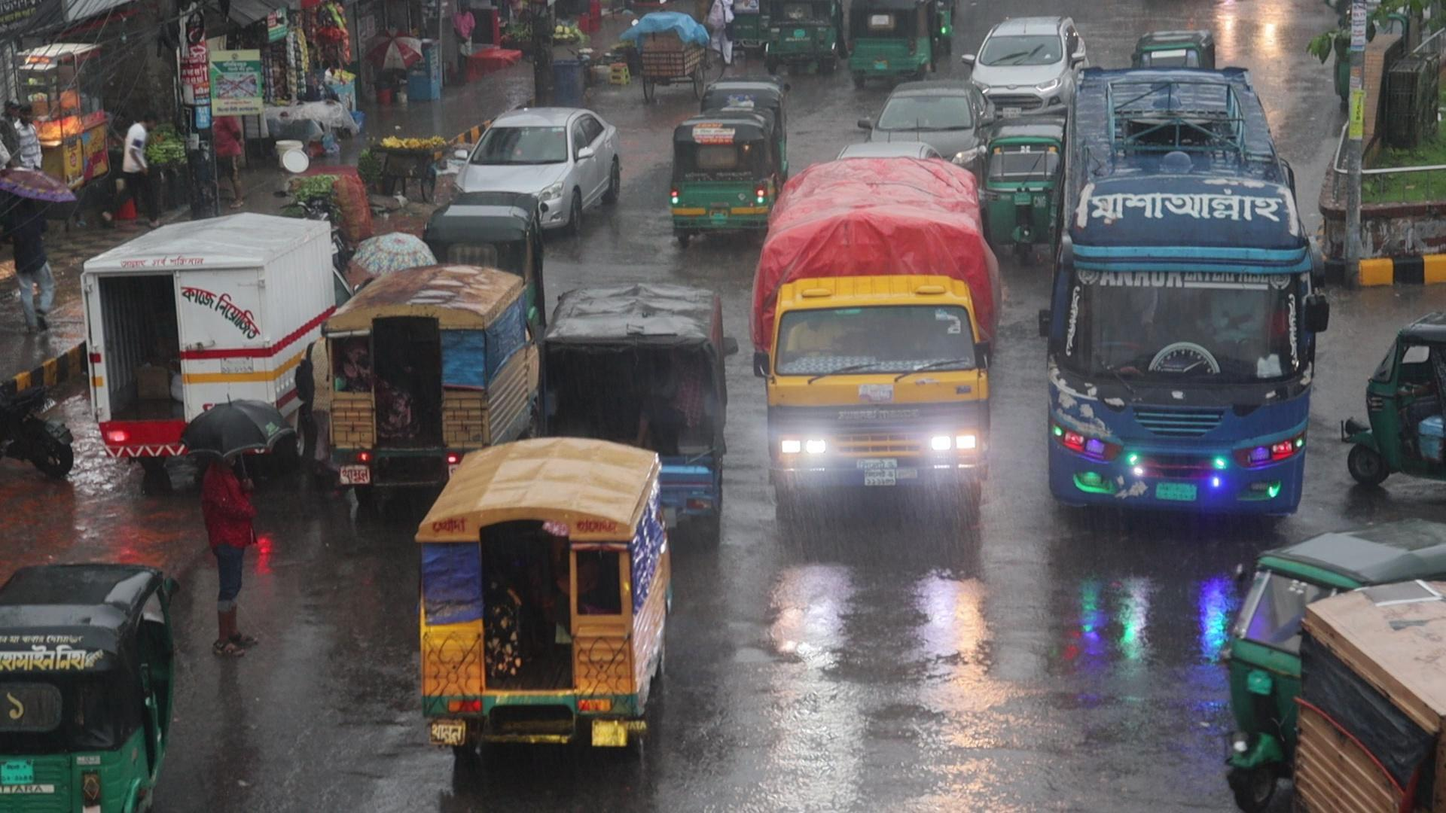Bus: (1036, 61, 1323, 537)
Truck: (750, 149, 996, 533), (408, 429, 677, 779), (318, 257, 541, 449)
